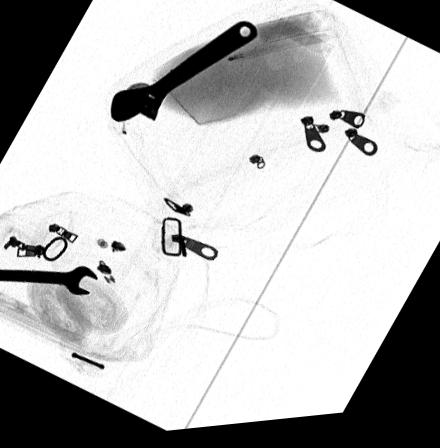Wrench: (106, 24, 259, 126), (0, 266, 97, 298)
